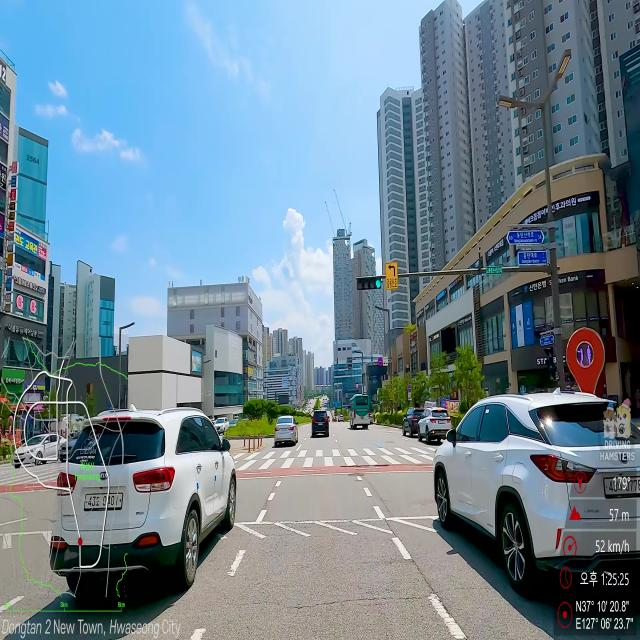Green Light: (375, 278, 381, 288)
